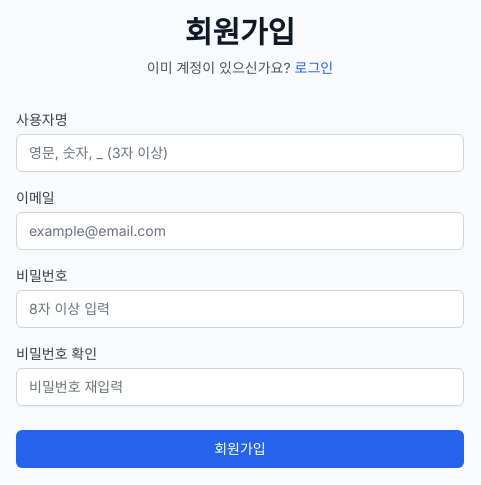
Test case: RegisterPage › 로딩 상태 › 로딩 중일 때 버튼이 비활성화된다
Type "testuser" into the field labelled "사용자명".
click(240, 153); type("testuser")  # box [16,134,464,172]
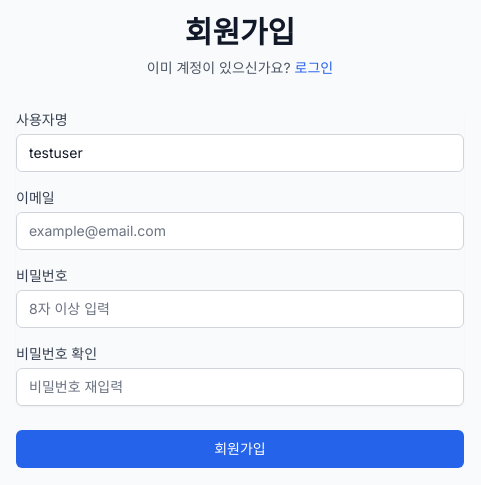
Type "test@example.com" into the field labelled "이메일".
click(240, 231); type("test@example.com")  # box [16,212,464,250]
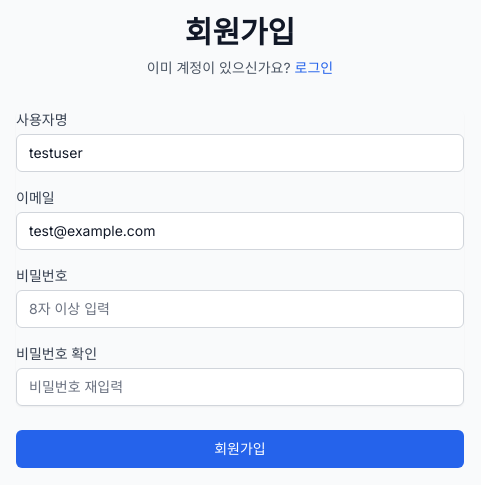
Type "password123" into the password field labelled "비밀번호".
click(240, 309); type("password123")  # box [16,290,464,328]
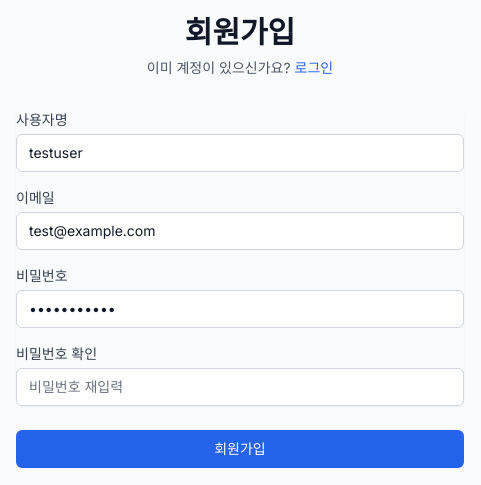
Type "password123" into the password field labelled "비밀번호 확인".
click(240, 387); type("password123")  # box [16,368,464,406]
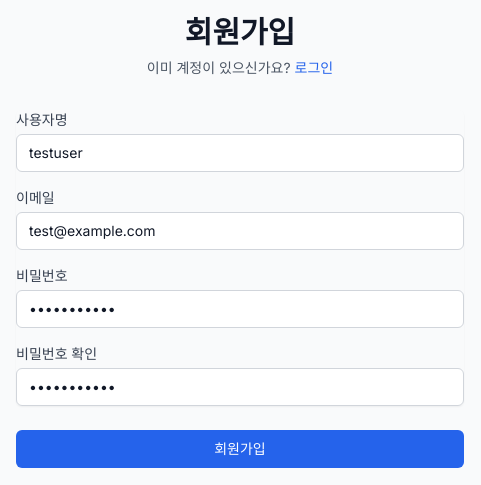
Click the button "회원가입".
click(240, 449)  # box [16,430,464,468]
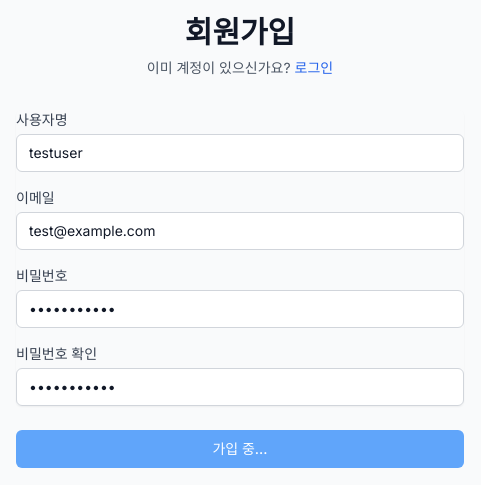
Expected: the button "가입 중..." is disabled, [16,430,464,468]
